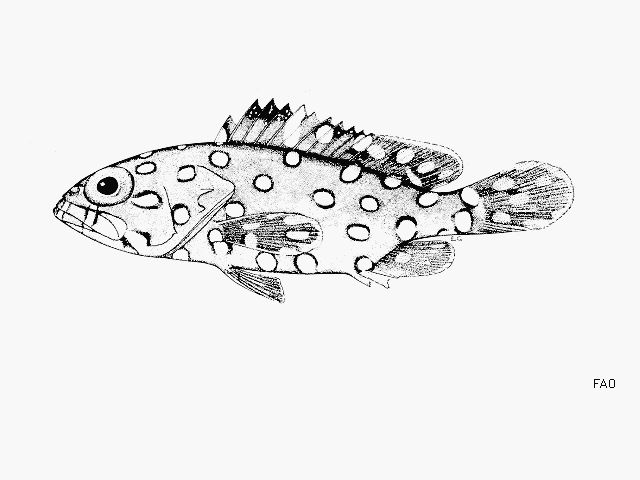fish: (52, 97, 574, 305)
